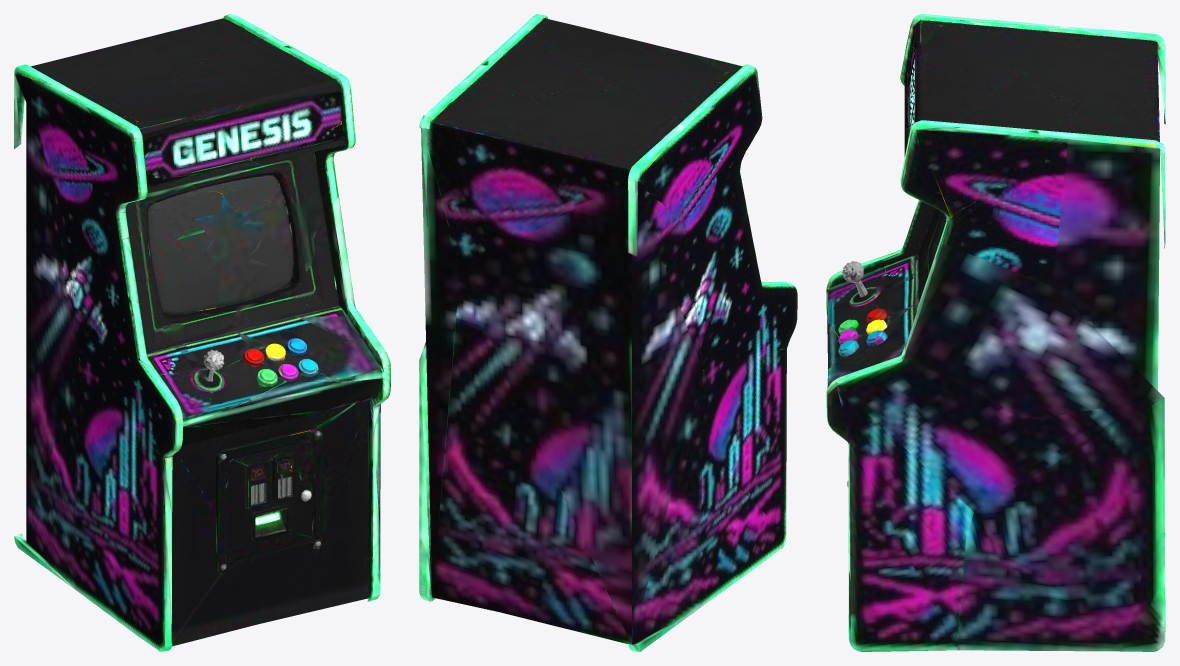
File: cab2.glb
The picture shows the model from 3 angles, left to right: view 1: azimuth 30°, elevation 25°; view 2: azimuth 150°, elevation 25°; view 3: azimuth 270°, elevation 25°; orthographic projection. The views are drawn at different scales.
Visible parts, largest first — view 1: Mesh_0; view 2: Mesh_0; view 3: Mesh_0.
Boxes of the visible parts, bbox=[...] form: Mesh_0: bbox=[14, 14, 390, 651]; Mesh_0: bbox=[419, 14, 797, 651]; Mesh_0: bbox=[826, 14, 1165, 651].
Bounding box in the file's own units: 0.8609 × 1.9 × 1.11.
Materials: 1 (1 with a texture image).
